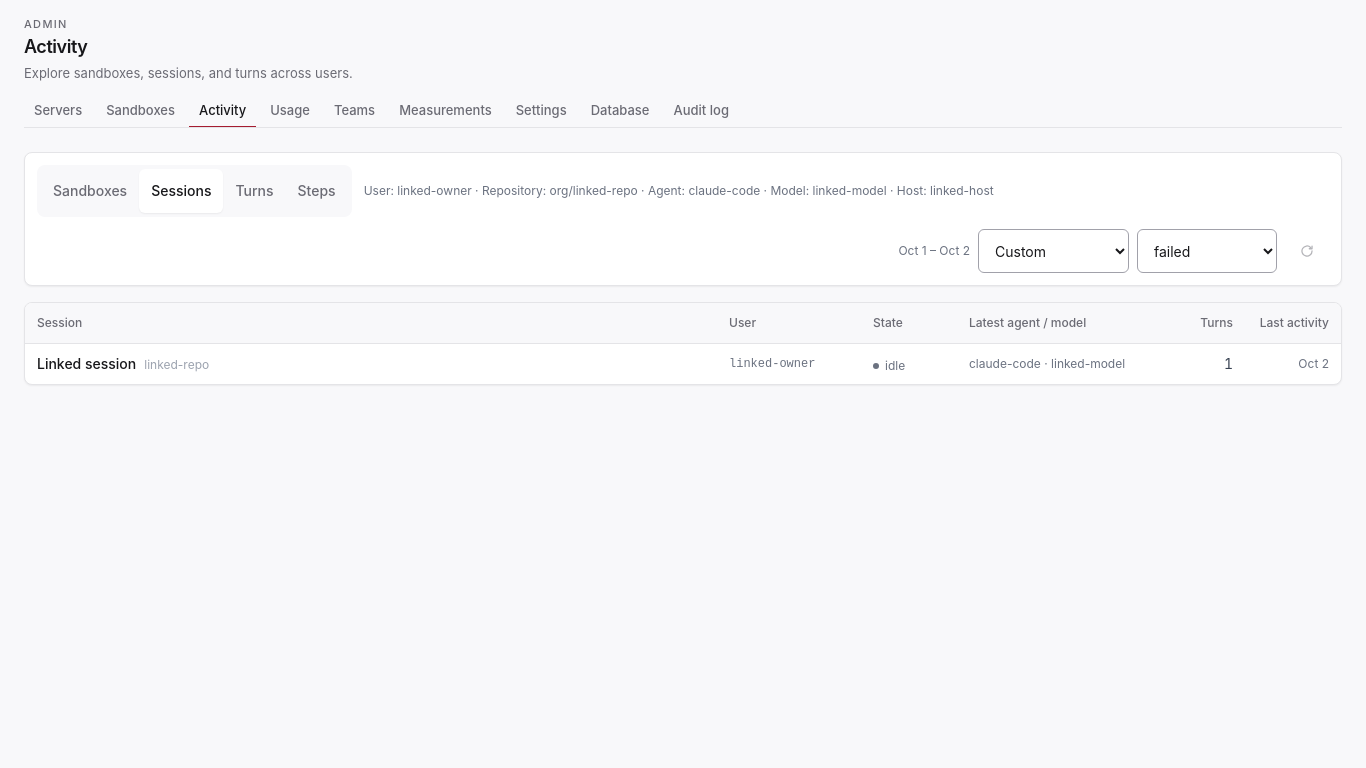
Test case: sandboxes in admin activity › keeps the linked turn selection while displaying sandbox-specific controls
Check: the link "Linked session" is shown, box top-left (37, 354), bottom-right (136, 374)
Check: the text "User: linked-owner" is shown, box top-left (364, 183), bottom-right (994, 198)
Click the button "Sandboxes" at (90, 191), box top-left (41, 169), bottom-right (139, 213)
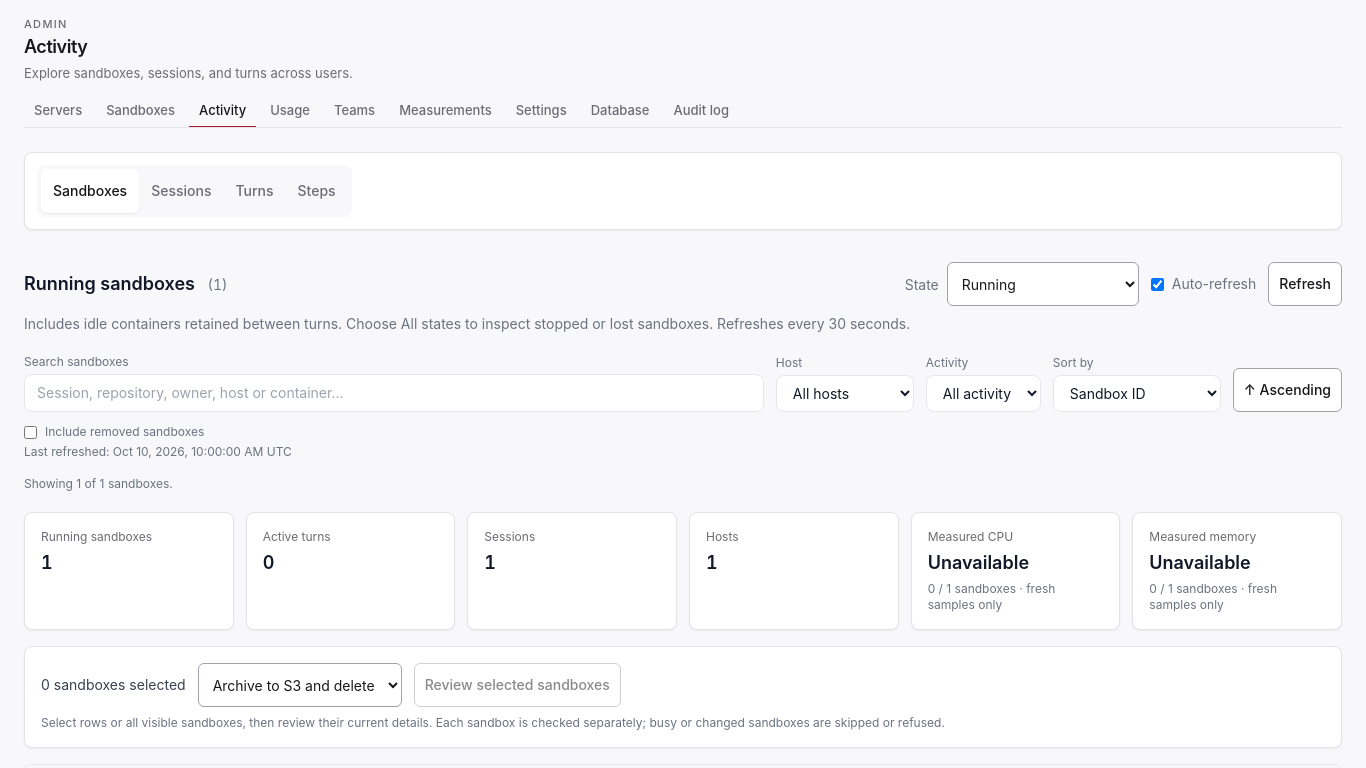
Check: the text "User: linked-owner" is gone
Check: the text "Oct 1 – Oct 2" is gone
Check: the dropdown named "Sandbox state" shows "Running"
Select "All states" in the dropdown named "Sandbox state" at (1043, 284), box top-left (947, 262), bottom-right (1139, 306)
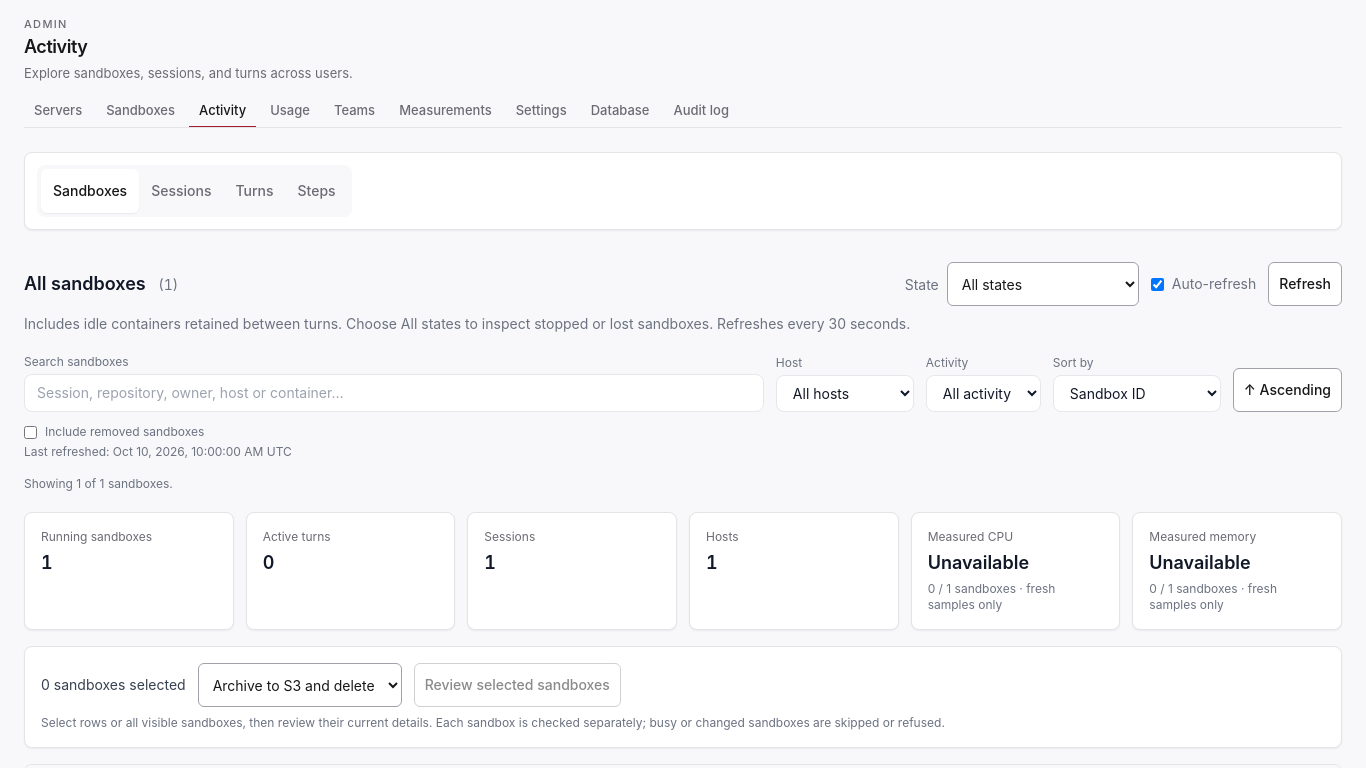
Click the button "Turns" at (255, 191), box top-left (224, 169), bottom-right (286, 213)
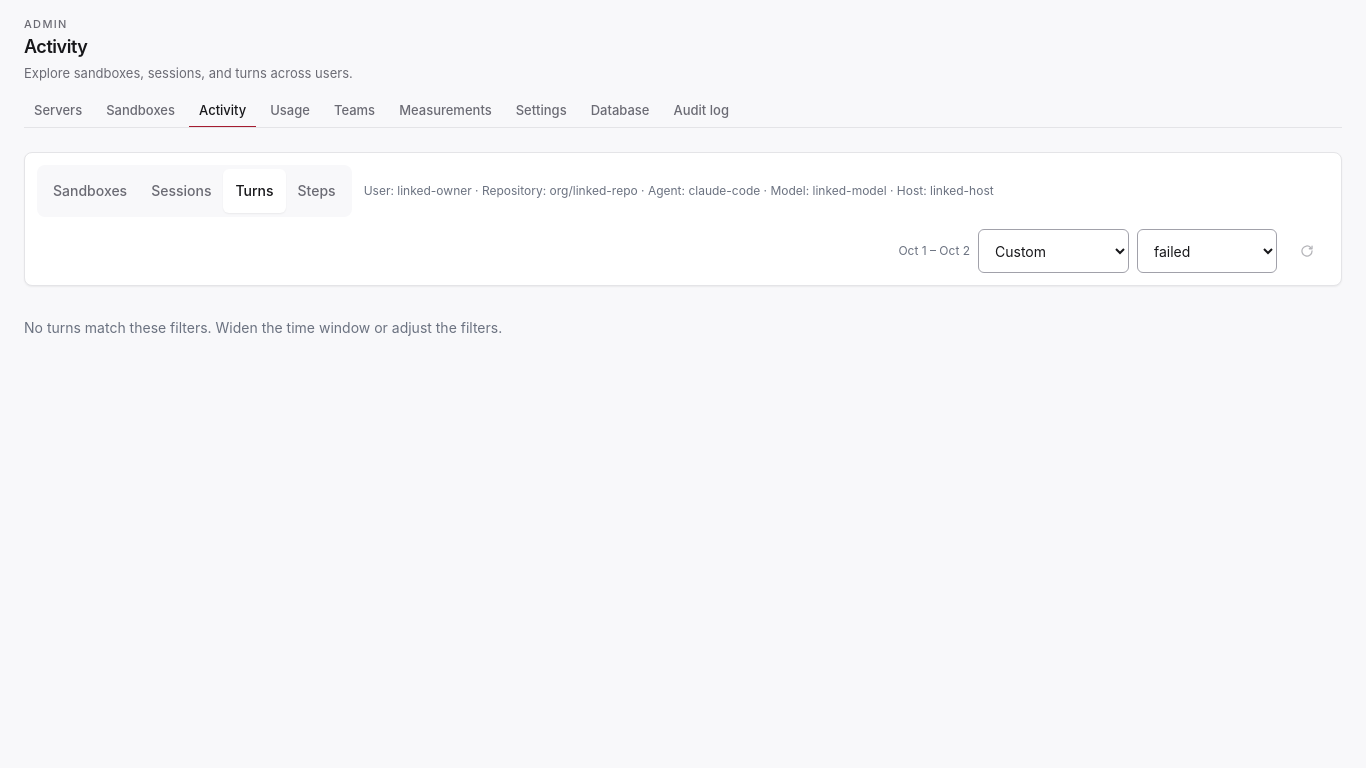
Check: the 2nd dropdown named "Turn result" shows "failed", box top-left (1137, 229), bottom-right (1277, 273)
Check: the 1st dropdown named "Turn created" shows "Custom", box top-left (978, 229), bottom-right (1129, 273)
Check: the text "User: linked-owner" is shown, box top-left (364, 183), bottom-right (994, 198)
Click the button "Sessions" at (181, 191), box top-left (139, 169), bottom-right (224, 213)
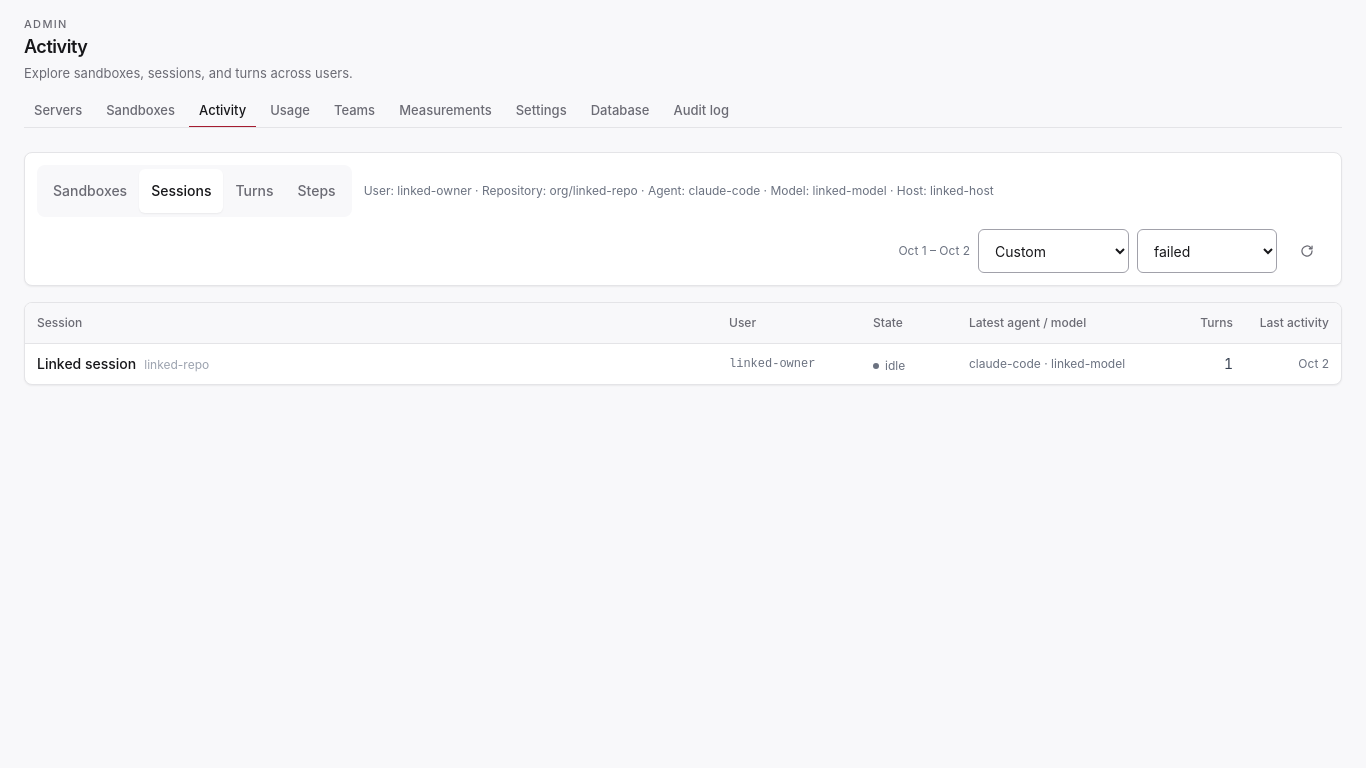
Check: the link "Linked session" is shown, box top-left (37, 354), bottom-right (136, 374)
